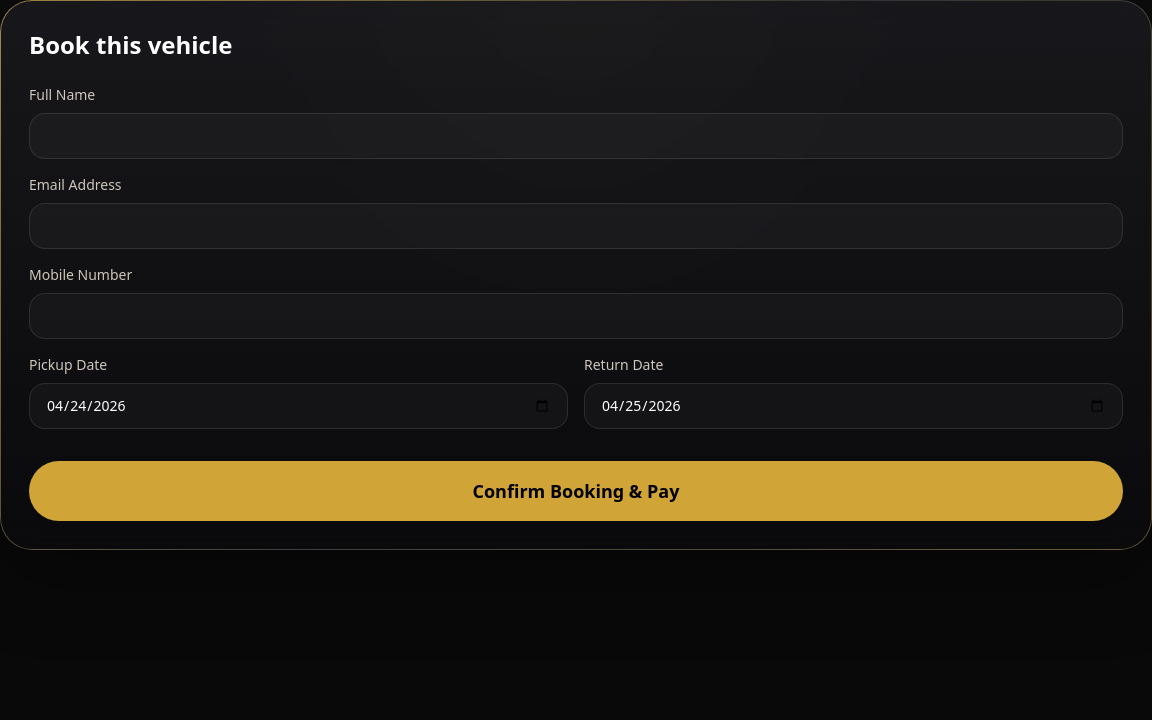
Test: BookingForm › calculates total price based on dates
Type "2026-05-01" into the date field labelled "Pickup Date" at (298, 406), box [29,383,568,429]
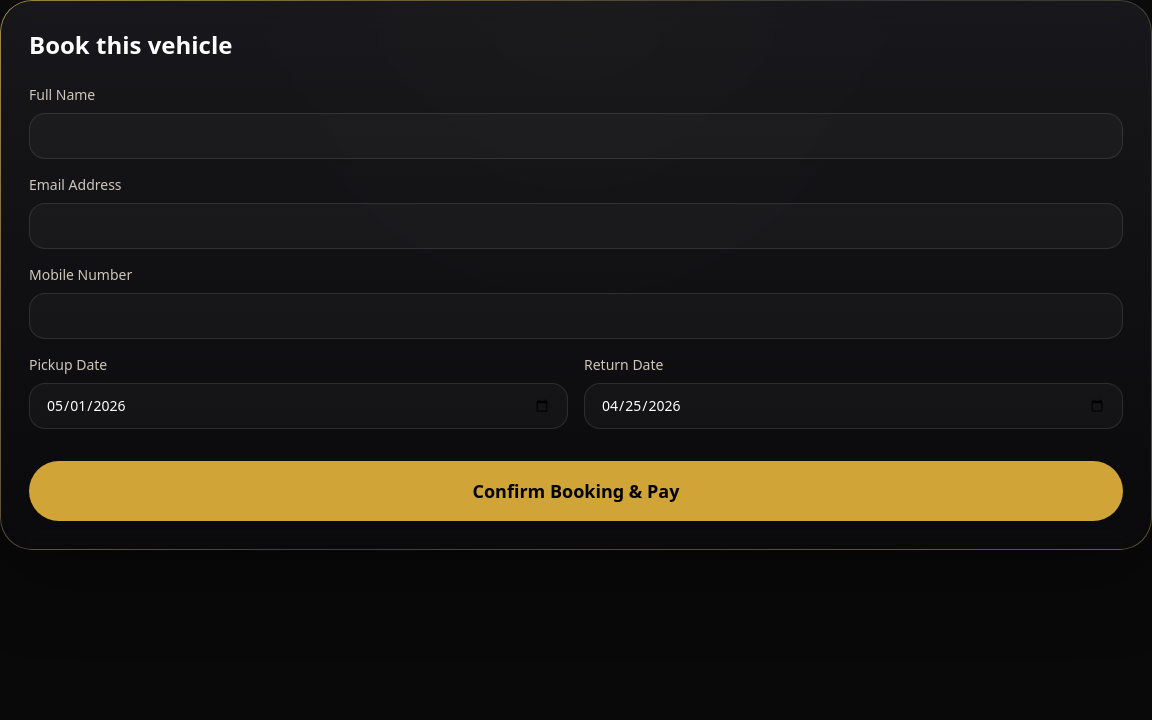
Type "2026-05-03" into the date field labelled "Return Date" at (854, 406), box [584,383,1123,429]
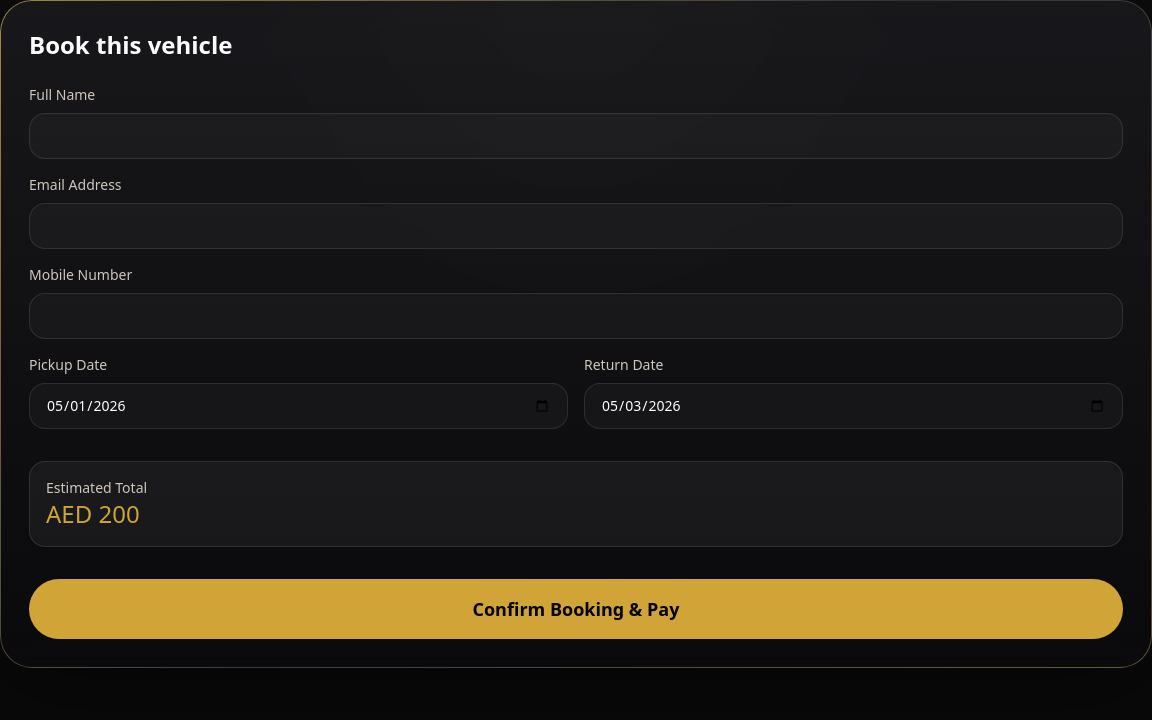
Expected: the text "Estimated Total" is shown, [46,478,147,497]
Expected: the text "AED 200" is shown, [46,497,140,530]
